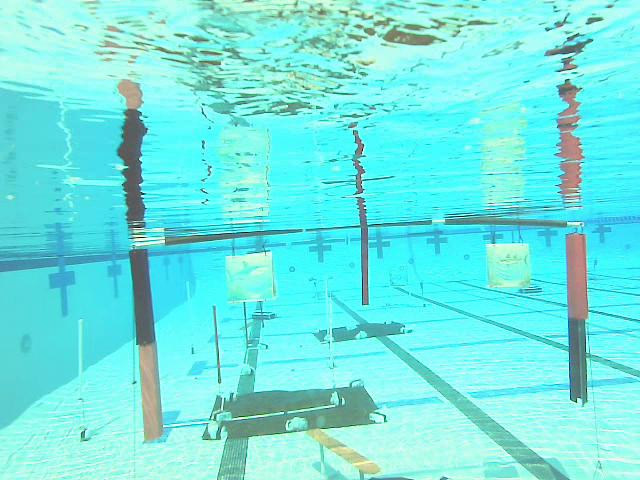black_poster: (211, 305, 223, 384)
divider: (360, 231, 372, 304)
left_gate_poster: (129, 251, 168, 443)
right_gate_poster: (562, 233, 593, 404)
shark: (225, 255, 272, 300)
swordfish: (489, 244, 532, 290)
white_poster: (78, 319, 88, 440), (185, 281, 196, 352), (329, 291, 335, 369)
